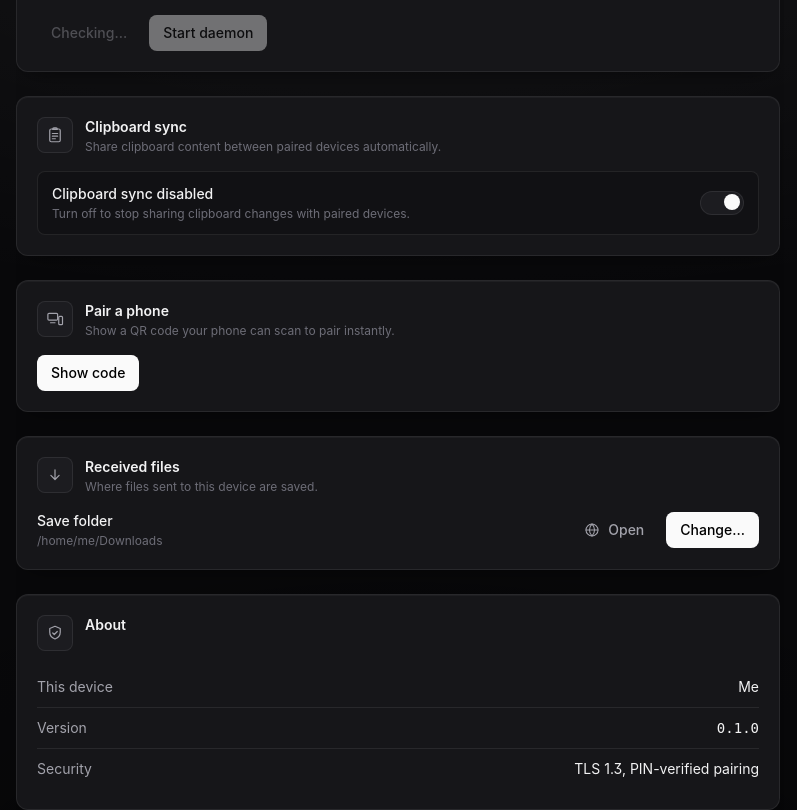
Test case: SettingsPanel › shows the resolved received-files folder and persists a newly picked one
(page scrolled)
Expected: the text "/home/me/Downloads" is shown, [37, 533, 162, 549]
Click the button "Change...". click: (713, 530)
box: [666, 512, 759, 548]
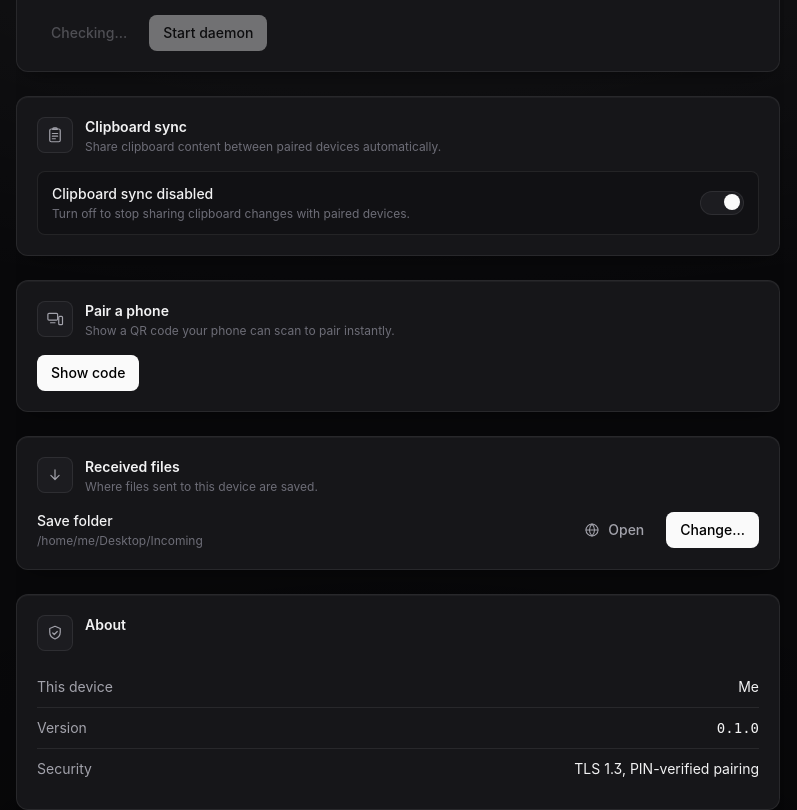
Expected: the text "/home/me/Desktop/Incoming" is shown, [37, 533, 203, 549]
